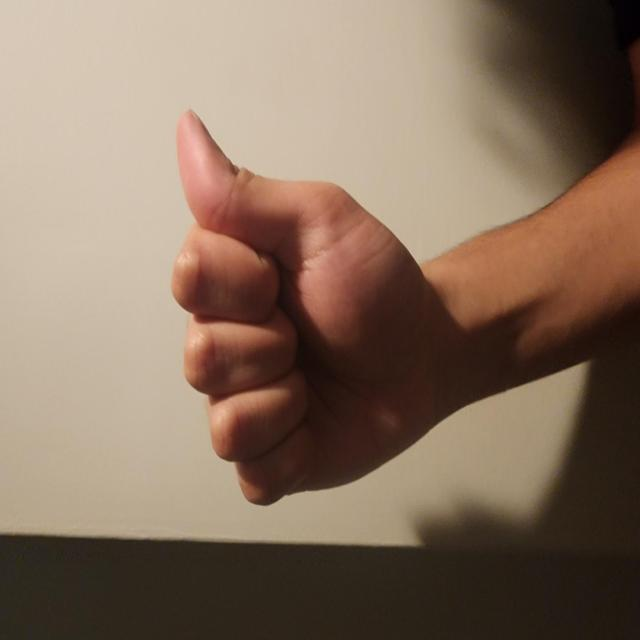A: (86, 221, 402, 602)
